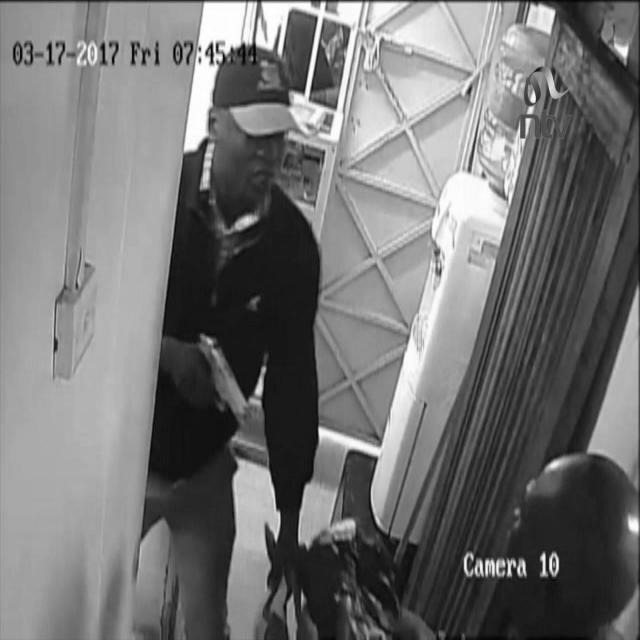gun: (188, 333, 250, 419)
